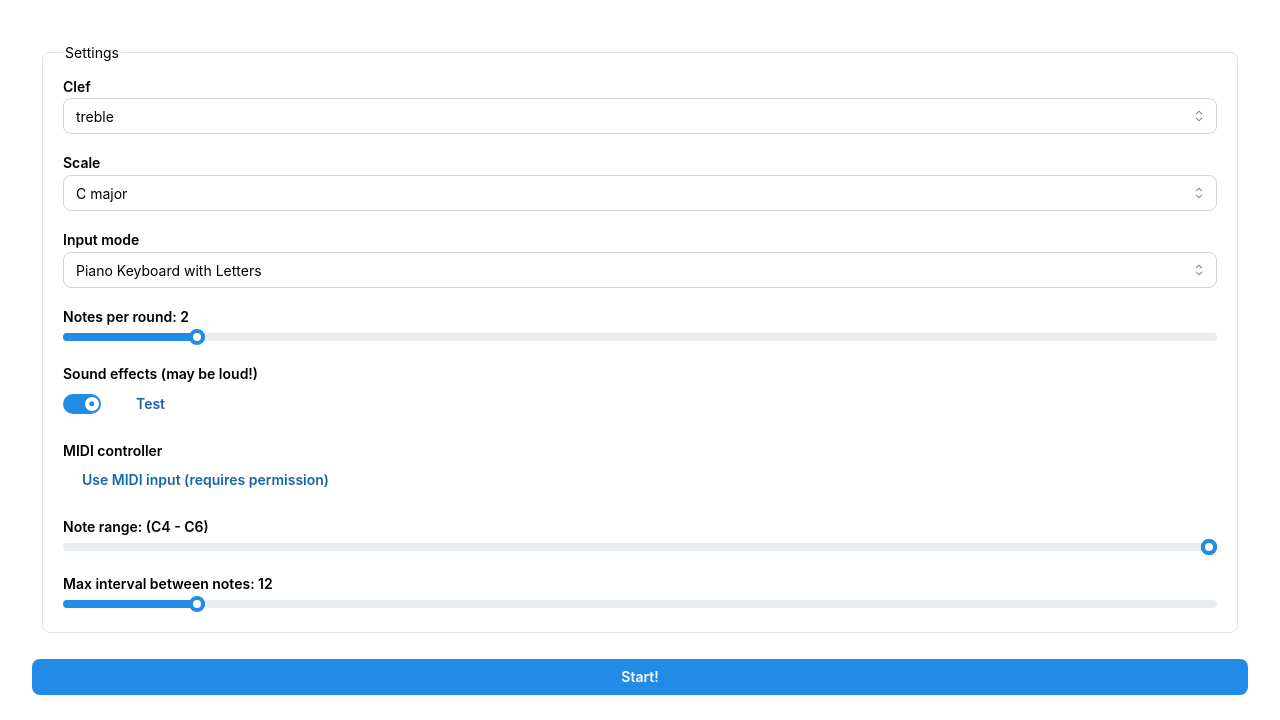
Scenario: TextGameStartPage › switches to the game screen when Start! is clicked
What coordinates should you click on to do the following:
click the button "Start!"
I would click on:
 (640, 677)
Its box is x1=32 y1=659 x2=1248 y2=695.
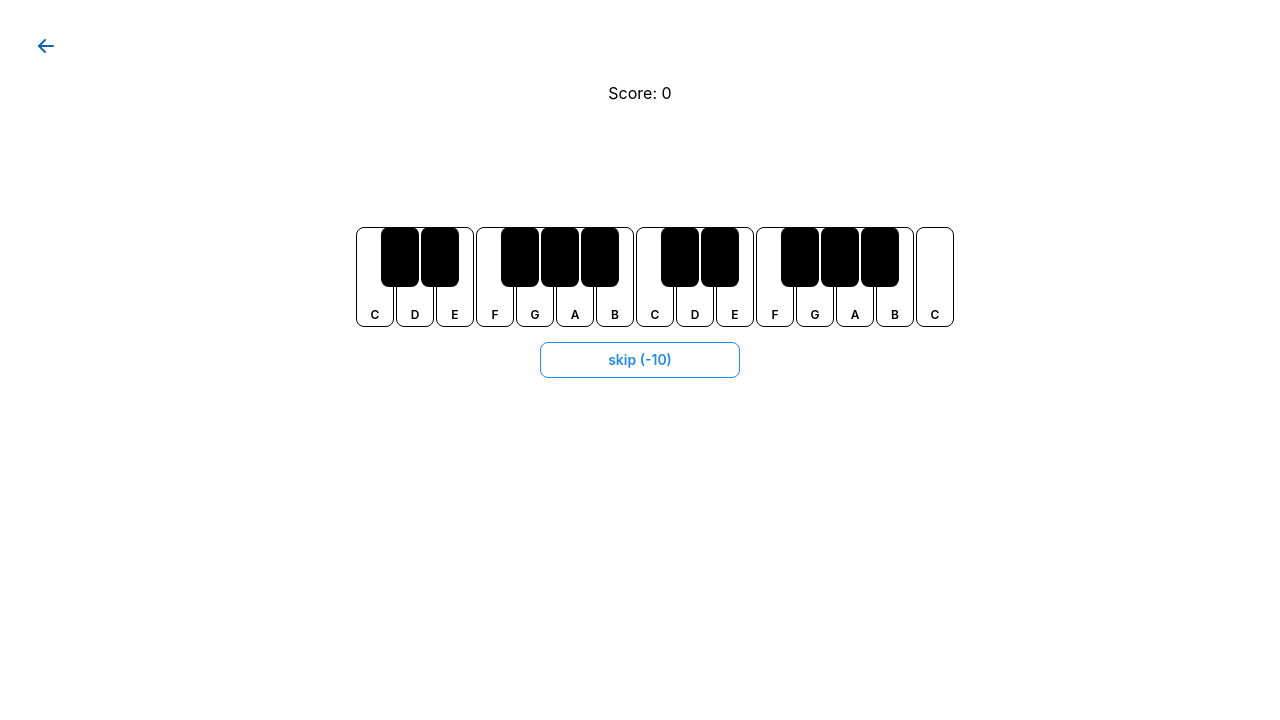
Now the button named "Back" is shown, box x1=32 y1=32 x2=60 y2=60
Now the text "Settings" is gone
